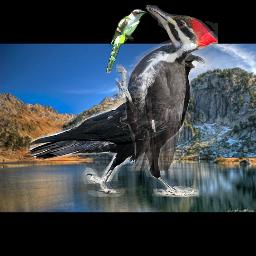Crow: (26, 49, 210, 197)
Cuckoo: (106, 9, 148, 73)
Woodpecker: (116, 3, 218, 171)
